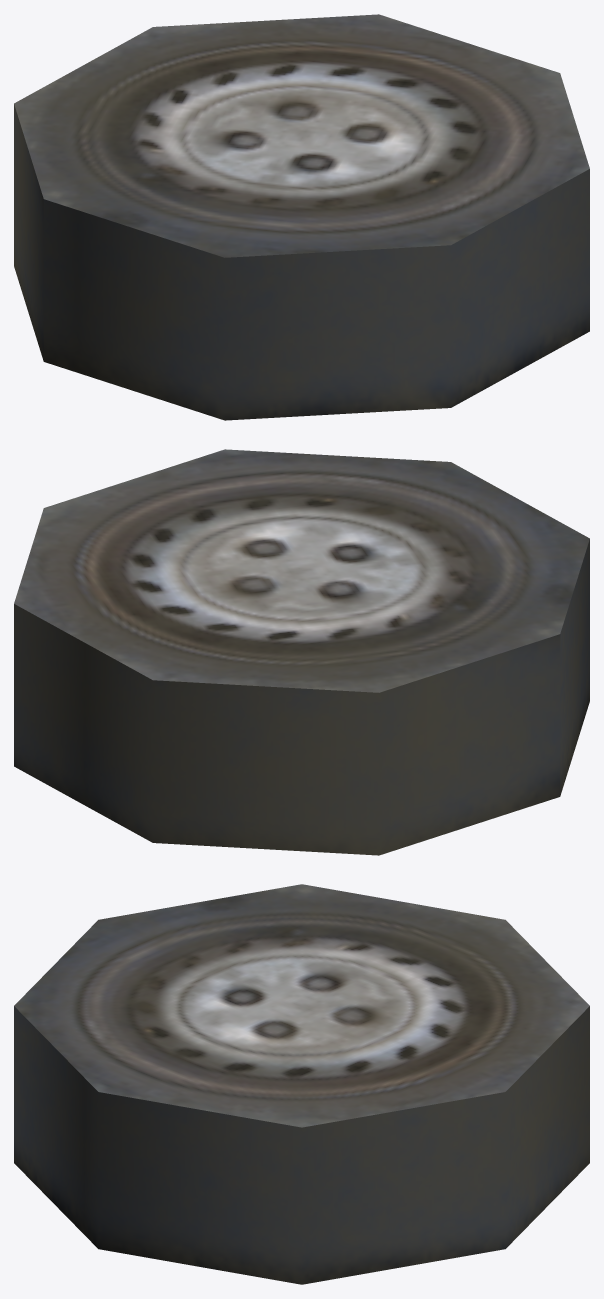
Rendered from SM_Wheel.FBX.
3 views of the same model, one above another, from view 1: azimuth 30°, elevation 25°; view 2: azimuth 150°, elevation 25°; view 3: azimuth 270°, elevation 25° (orthographic). The views are drawn at different scales.
Visible parts, largest first — view 1: SM_Wheel; view 2: SM_Wheel; view 3: SM_Wheel.
Boxes of the visible parts, <box> form: SM_Wheel: <box>14,14,589,420</box>; SM_Wheel: <box>14,449,589,855</box>; SM_Wheel: <box>14,884,589,1284</box>.
Bounding box in the file's own units: 70.12 × 70.12 × 21.12.
